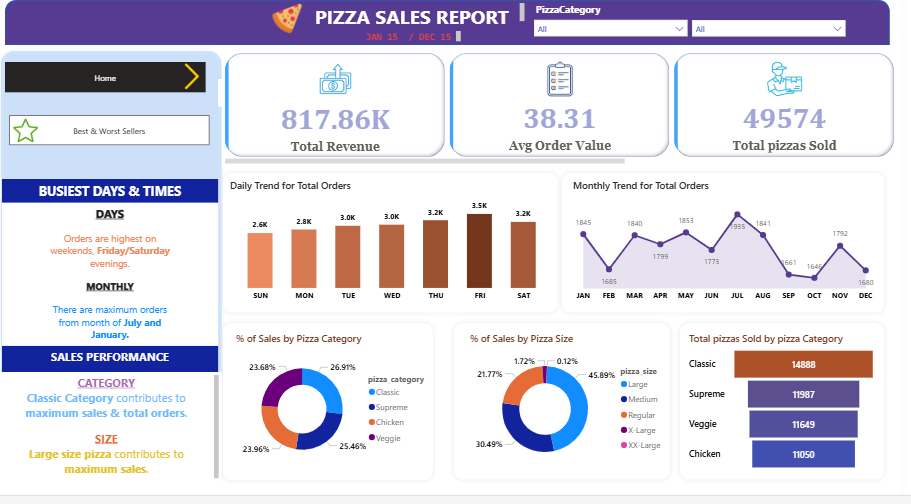

What the dashboard file says about the page in this screenshot:
{"tool":"powerbi","page":{"name":"Home","canvas":[1500,820],"ordinal":0},"visuals":[{"type":"shape","box":[0,75.4,382.1,744.6],"z":0},{"type":"textbox","box":[367.4,131.2,195.2,45.9],"z":1000},{"type":"cardVisual","fields":{"Data":["pizza_sales.Total Revenue","pizza_sales.Avg Order Value","pizza_sales.Total pizzas Sold","pizza_sales.Total Orders","pizza_sales.Avg Pizzas per Order"]},"box":[373.9,83.1,1118.5,195.4],"z":2000},{"type":"shape","box":[14.9,0,1465.7,74.6],"z":3000},{"type":"textbox","box":[523.9,0,356.7,46.3],"z":4000},{"type":"textbox","box":[607.5,46.3,167.2,28.4],"z":5000},{"type":"image","box":[440.3,0,83.6,61.2],"z":6000},{"type":"shape","box":[367.2,279.1,570.1,247.8],"z":7000},{"type":"columnChart","title":"Daily Trend for Total Orders","fields":{"Category":["pizza_sales.Order Day"],"Y":["pizza_sales.Total Orders"]},"box":[382.1,297,547.8,210.4],"z":8000},{"type":"shape","box":[929.9,279.1,550.8,247.8],"z":9000},{"type":"areaChart","title":"Monthly Trend for Total Orders","fields":{"Category":["pizza_sales.Order Month"],"Y":["pizza_sales.Total Orders"]},"box":[950.8,297,511.9,210.4],"z":10000},{"type":"shape","box":[367.4,526.4,364.1,277.2],"z":11000},{"type":"shape","box":[750.8,526.9,374.6,276.1],"z":12000},{"type":"shape","box":[1125.4,526.9,355.2,276.1],"z":13000},{"type":"donutChart","title":"% of Sales by Pizza Category","fields":{"Category":["pizza_sales.pizza_category"],"Y":["pizza_sales.Total Revenue"]},"box":[392.5,549.2,338.8,234.3],"z":14000},{"type":"donutChart","title":"% of Sales by Pizza Size","fields":{"Category":["pizza_sales.pizza_size"],"Y":["pizza_sales.Total Revenue"]},"box":[780.6,549.2,338.8,234.3],"z":15000},{"type":"funnel","title":"Total pizzas Sold by pizza Category","fields":{"Category":["pizza_sales.pizza_category"],"Y":["pizza_sales.Total pizzas Sold"]},"box":[1143.3,549.2,319.4,234.3],"z":16000},{"type":"textbox","box":[9.8,296.8,357.5,39.4],"z":17000},{"type":"textbox","box":[9.8,336.2,357.5,236.2],"z":18000},{"type":"textbox","box":[9.8,572.4,357.5,44.3],"z":19000},{"type":"textbox","box":[0,616.6,373.9,203.4],"z":19001},{"type":"slicer","fields":{"Values":["pizza_sales.pizza_category"]},"box":[880.7,0,273.9,60.7],"z":19002},{"type":"slicer","fields":{"Values":["pizza_sales.Order Day"]},"box":[1143.1,23,273.9,60.7],"z":19003},{"type":"pageNavigator","box":[15.4,103.1,332.3,50.8],"z":19004},{"type":"pageNavigator","box":[21.5,190.8,332.3,50.8],"z":19005},{"type":"image","box":[296.9,100,56.9,53.9],"z":19006},{"type":"image","box":[21.5,190.8,55.4,50.8],"z":19007}]}

Visuals, with their boxes in screenshot pixels (x1, y1, x2, y2), scaled from the page's 1500x820 canvas onto the 911x504 screenshot:
shape: <box>0,46,232,503</box>
textbox: <box>223,81,342,109</box>
cardVisual - pizza_sales.Total Revenue x pizza_sales.Avg Order Value: <box>227,51,906,171</box>
shape: <box>9,0,899,46</box>
textbox: <box>318,0,535,28</box>
textbox: <box>369,28,471,46</box>
image: <box>267,0,318,38</box>
shape: <box>223,172,569,324</box>
"Daily Trend for Total Orders" columnChart: <box>232,183,565,312</box>
shape: <box>565,172,899,324</box>
"Monthly Trend for Total Orders" areaChart: <box>577,183,888,312</box>
shape: <box>223,324,444,494</box>
shape: <box>456,324,683,494</box>
shape: <box>683,324,899,494</box>
"% of Sales by Pizza Category" donutChart: <box>238,338,444,482</box>
"% of Sales by Pizza Size" donutChart: <box>474,338,680,482</box>
"Total pizzas Sold by pizza Category" funnel: <box>694,338,888,482</box>
textbox: <box>6,182,223,207</box>
textbox: <box>6,207,223,352</box>
textbox: <box>6,352,223,379</box>
textbox: <box>0,379,227,503</box>
slicer - pizza_sales.pizza_category: <box>535,0,701,37</box>
slicer - pizza_sales.Order Day: <box>694,14,861,51</box>
pageNavigator: <box>9,63,211,95</box>
pageNavigator: <box>13,117,215,148</box>
image: <box>180,61,215,95</box>
image: <box>13,117,47,148</box>
